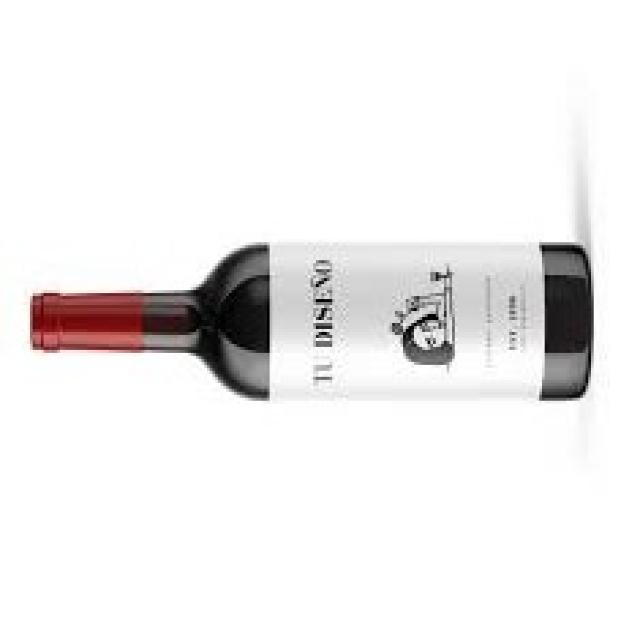Vidrio: (20, 225, 602, 422)
